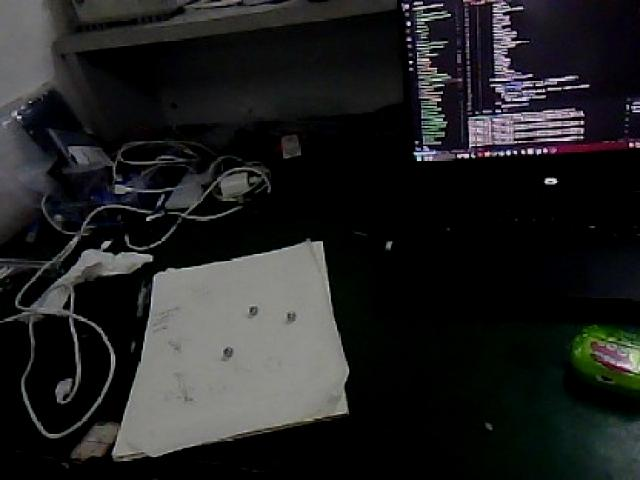steel-ball: (208, 335, 240, 368), (240, 290, 265, 316), (277, 303, 300, 328)
